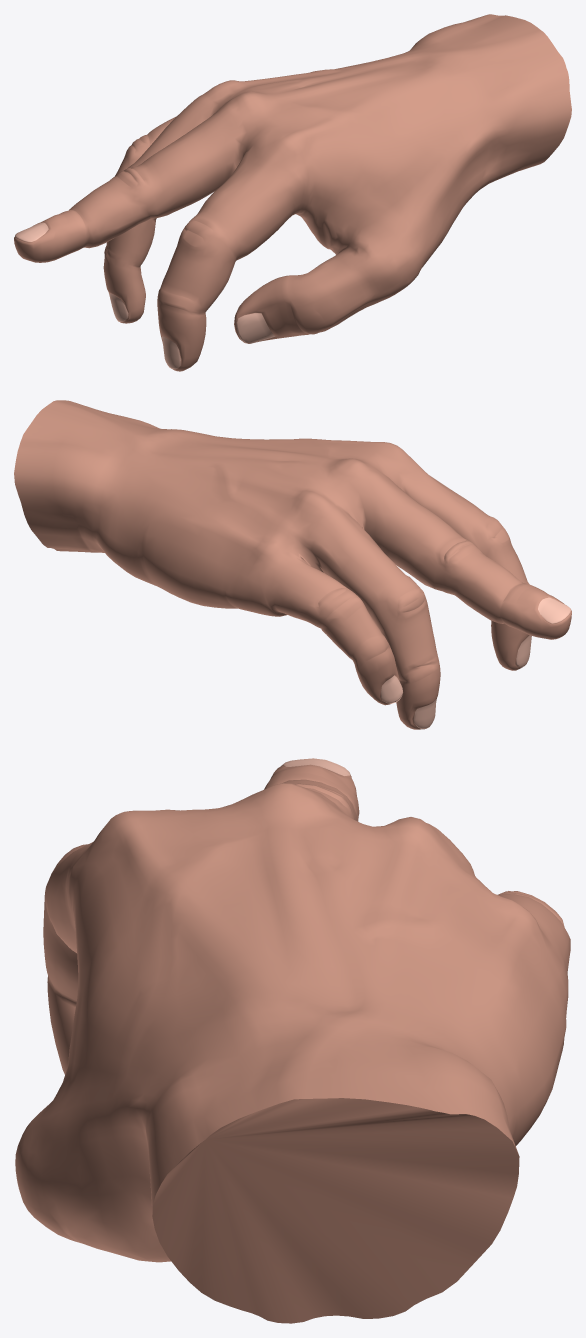
The model's file is hand_20.obj.
3 renders of one model, top to bottom at view 1: azimuth 30°, elevation 25°; view 2: azimuth 150°, elevation 25°; view 3: azimuth 270°, elevation 25°, orthographic. The views are drawn at different scales.
Visible parts, largest first — view 1: Figure_2; view 2: Figure_2; view 3: Figure_2.
Boxes of the visible parts, x1,y1,x2,y2 form: Figure_2: [14, 14, 571, 371]; Figure_2: [14, 400, 571, 729]; Figure_2: [15, 758, 570, 1323].
Bounding box in the file's own units: 0.8868 × 0.3659 × 0.4082.
